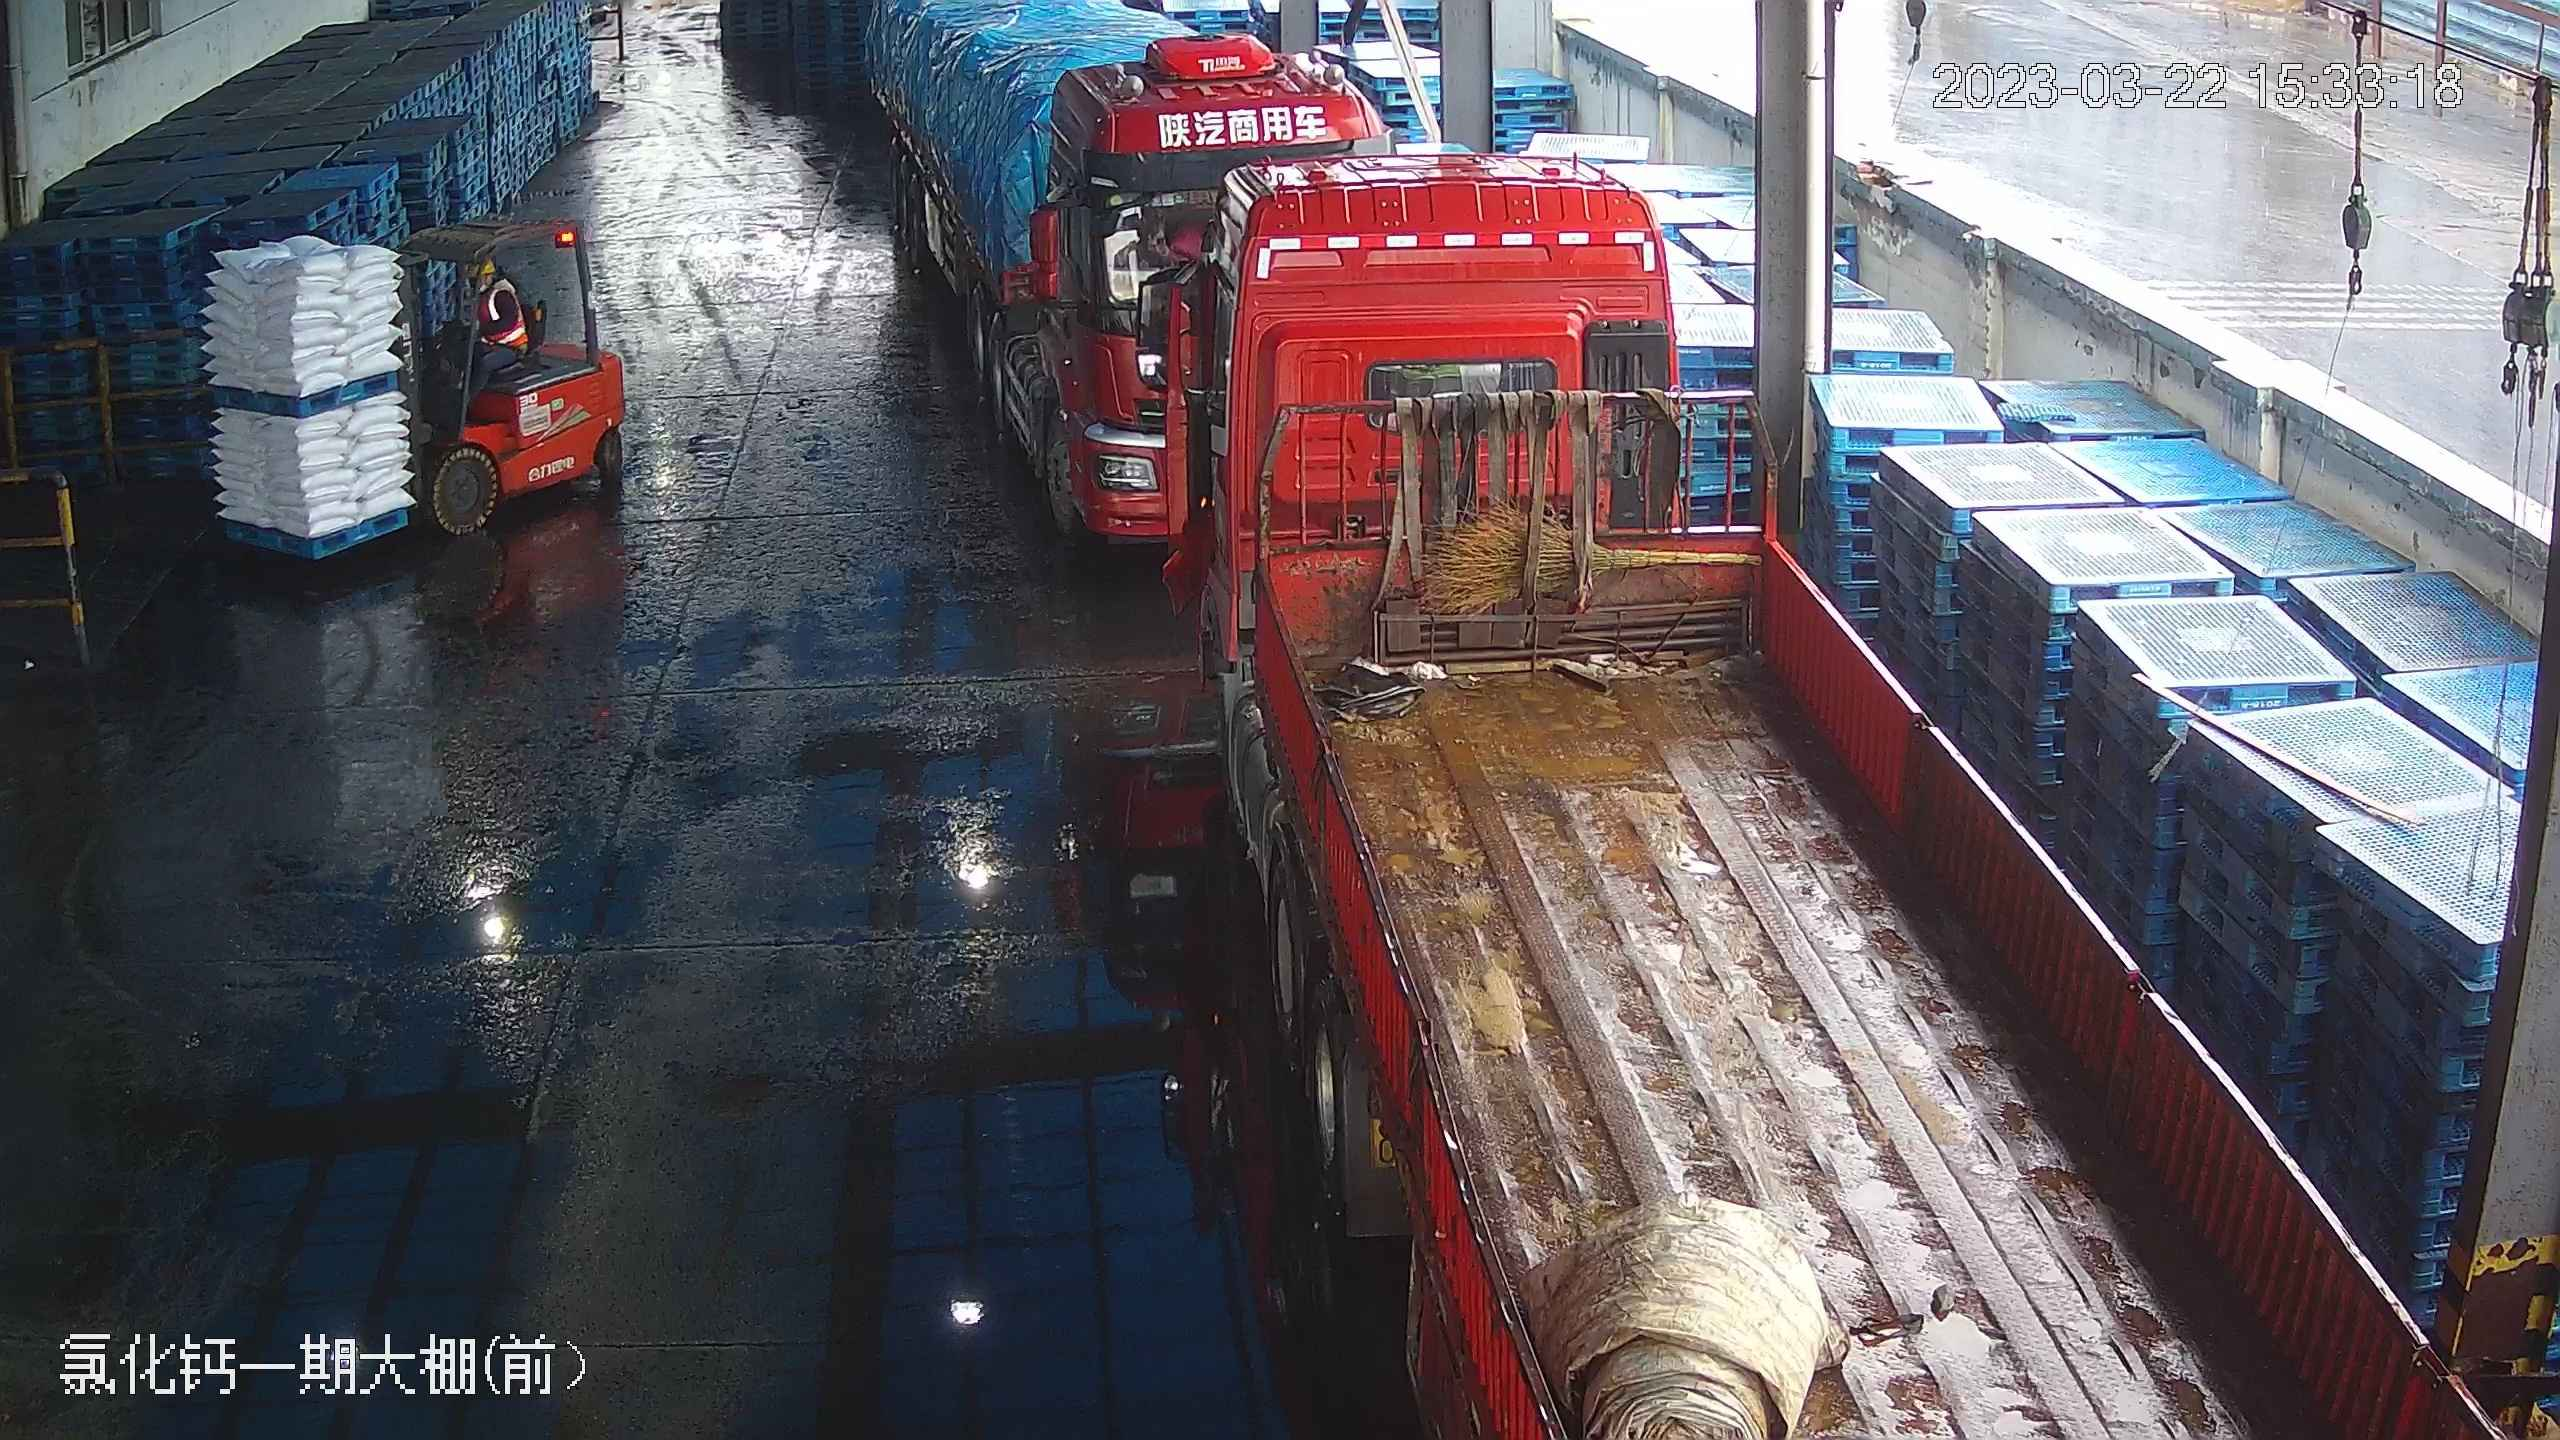head: (473, 256, 523, 309)
people: (450, 258, 528, 393)
truck: (1167, 133, 2502, 1439), (880, 14, 1609, 580)
